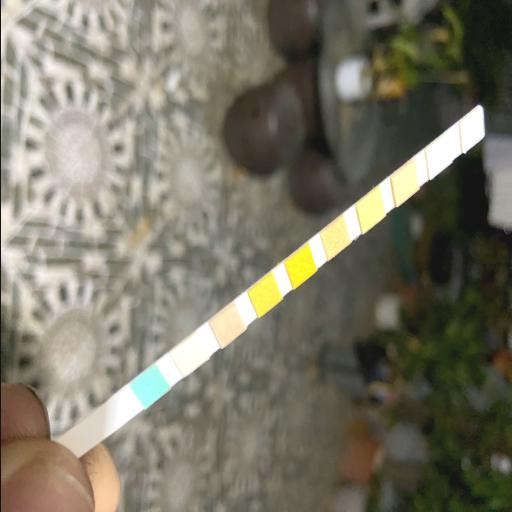Bilirubin: (178, 344, 198, 366)
Blood: (292, 256, 310, 277)
Glucose: (139, 374, 159, 398)
Ketone: (215, 316, 237, 336)
Leukocytes: (463, 120, 481, 140)
Nitrite: (428, 148, 446, 167)
Protein: (362, 200, 380, 220)
SpGravity: (256, 286, 274, 306)
Urobilinogen: (394, 176, 412, 196)
pH: (325, 229, 345, 248)
strip: (67, 103, 482, 459)
